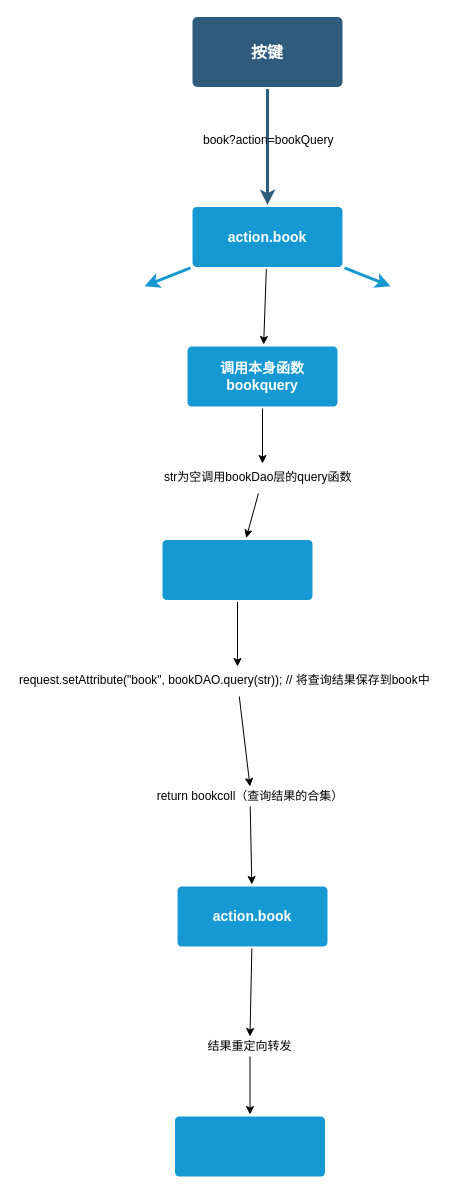
This 474x1194 diagram has some shape labels left out. The shapes that lost their labels are listed below. From the top down, each one's centre as x and y in pixels, then its label:
point 237,570: bookDAO
point 249,1146: book.jsp
